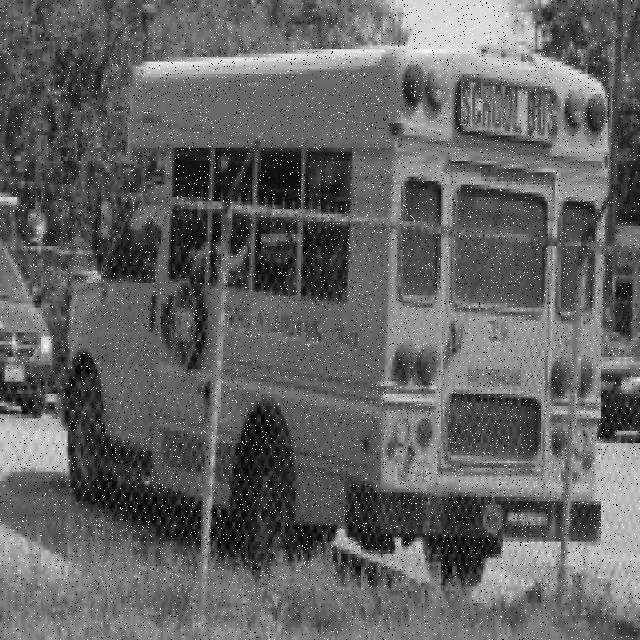Bus- Small: (56, 43, 611, 587)
